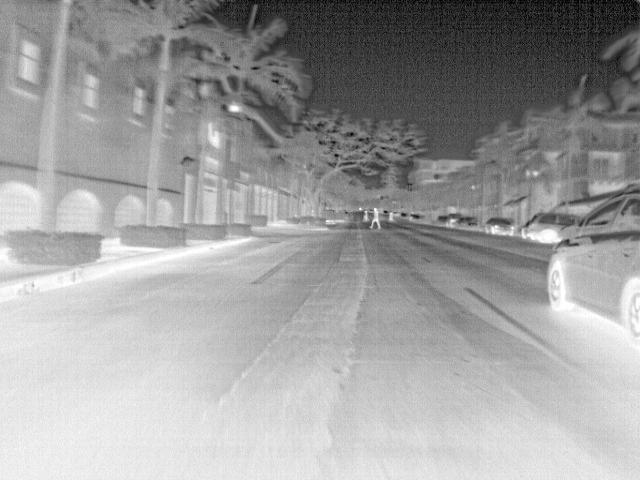car: (542, 190, 640, 340), (519, 211, 579, 246), (483, 218, 513, 236), (456, 216, 480, 232), (445, 212, 465, 228)
person: (369, 207, 383, 234), (386, 210, 399, 226), (360, 208, 373, 223)
